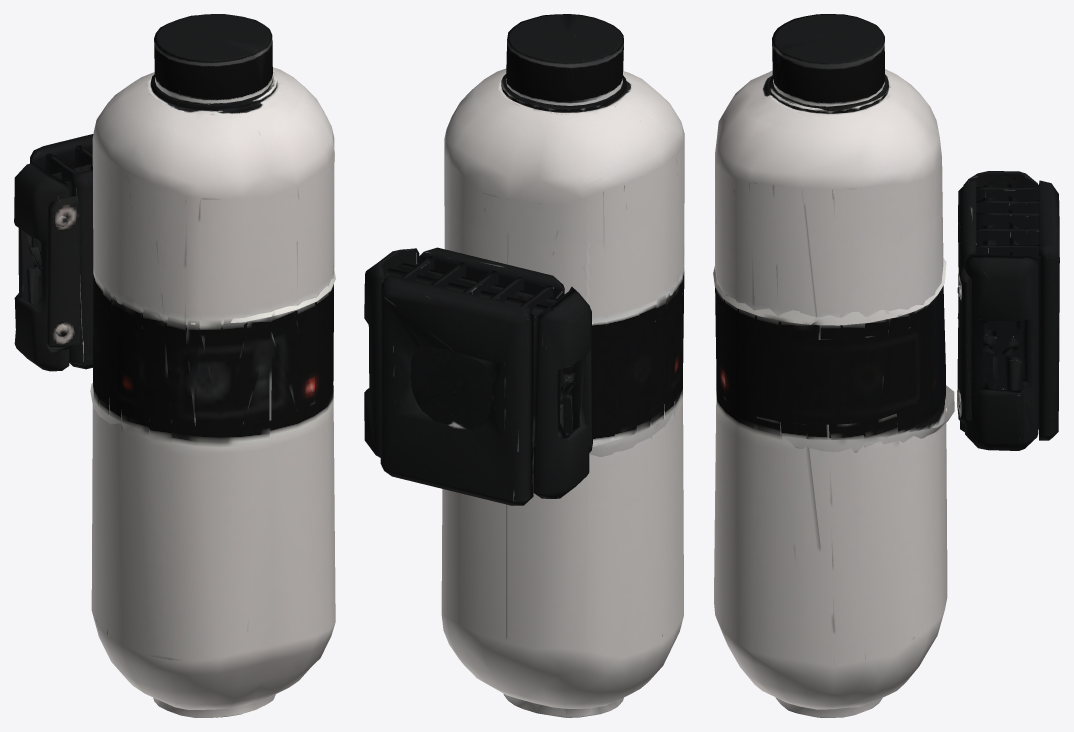
Rendered from meshy-t2.glb.
The picture shows the model from 3 angles, left to right: view 1: azimuth 30°, elevation 25°; view 2: azimuth 150°, elevation 25°; view 3: azimuth 270°, elevation 25°; orthographic projection.
Size of the model in its own units: 0.3298 by 1 by 0.4795.
1 material, 1 textured.
